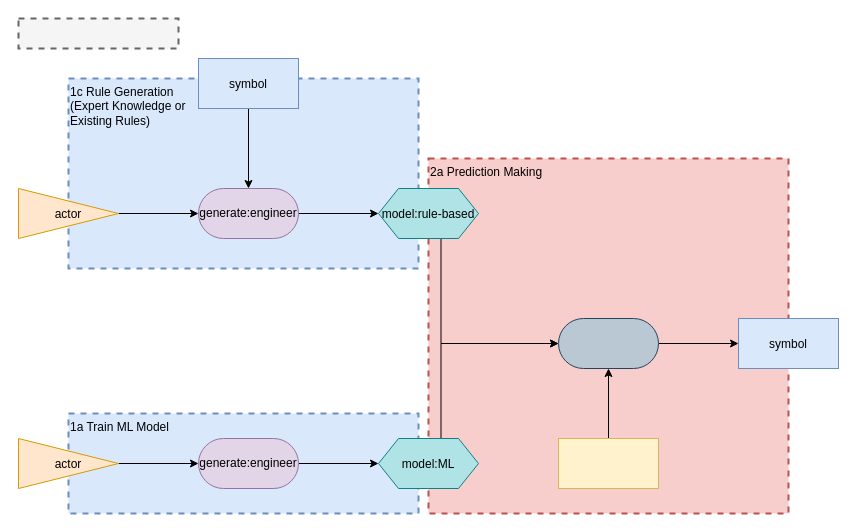
The diagram is 856 pixels wide and 531 high, and some of its shapes have lost their labels. The shapes that lost their labels are listed below. From the top down, each one's centre as x and y in pixels, then its label:
the point at 98,33: --> Link to Refined Pattern
the point at 608,343: infer:deduce
the point at 608,463: data
